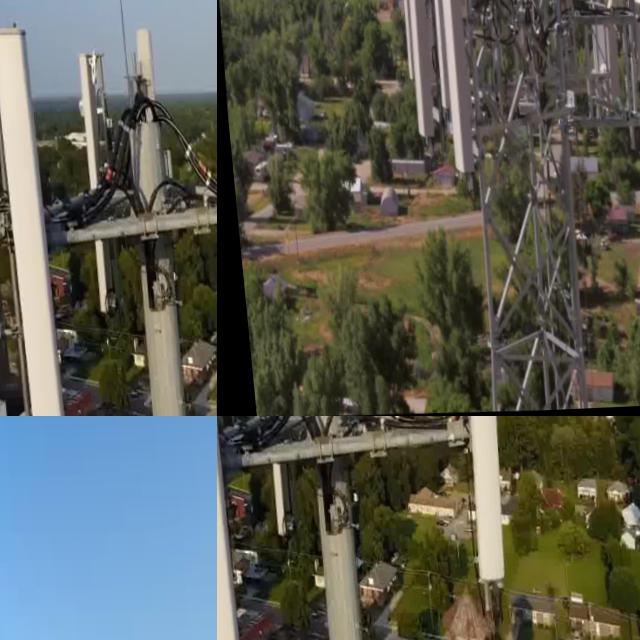GSM Antenna: (0, 24, 69, 416), (65, 52, 119, 318), (419, 0, 476, 187), (386, 0, 446, 155), (578, 0, 638, 150), (125, 19, 164, 225), (461, 416, 501, 601), (244, 416, 294, 540), (384, 0, 413, 94)
